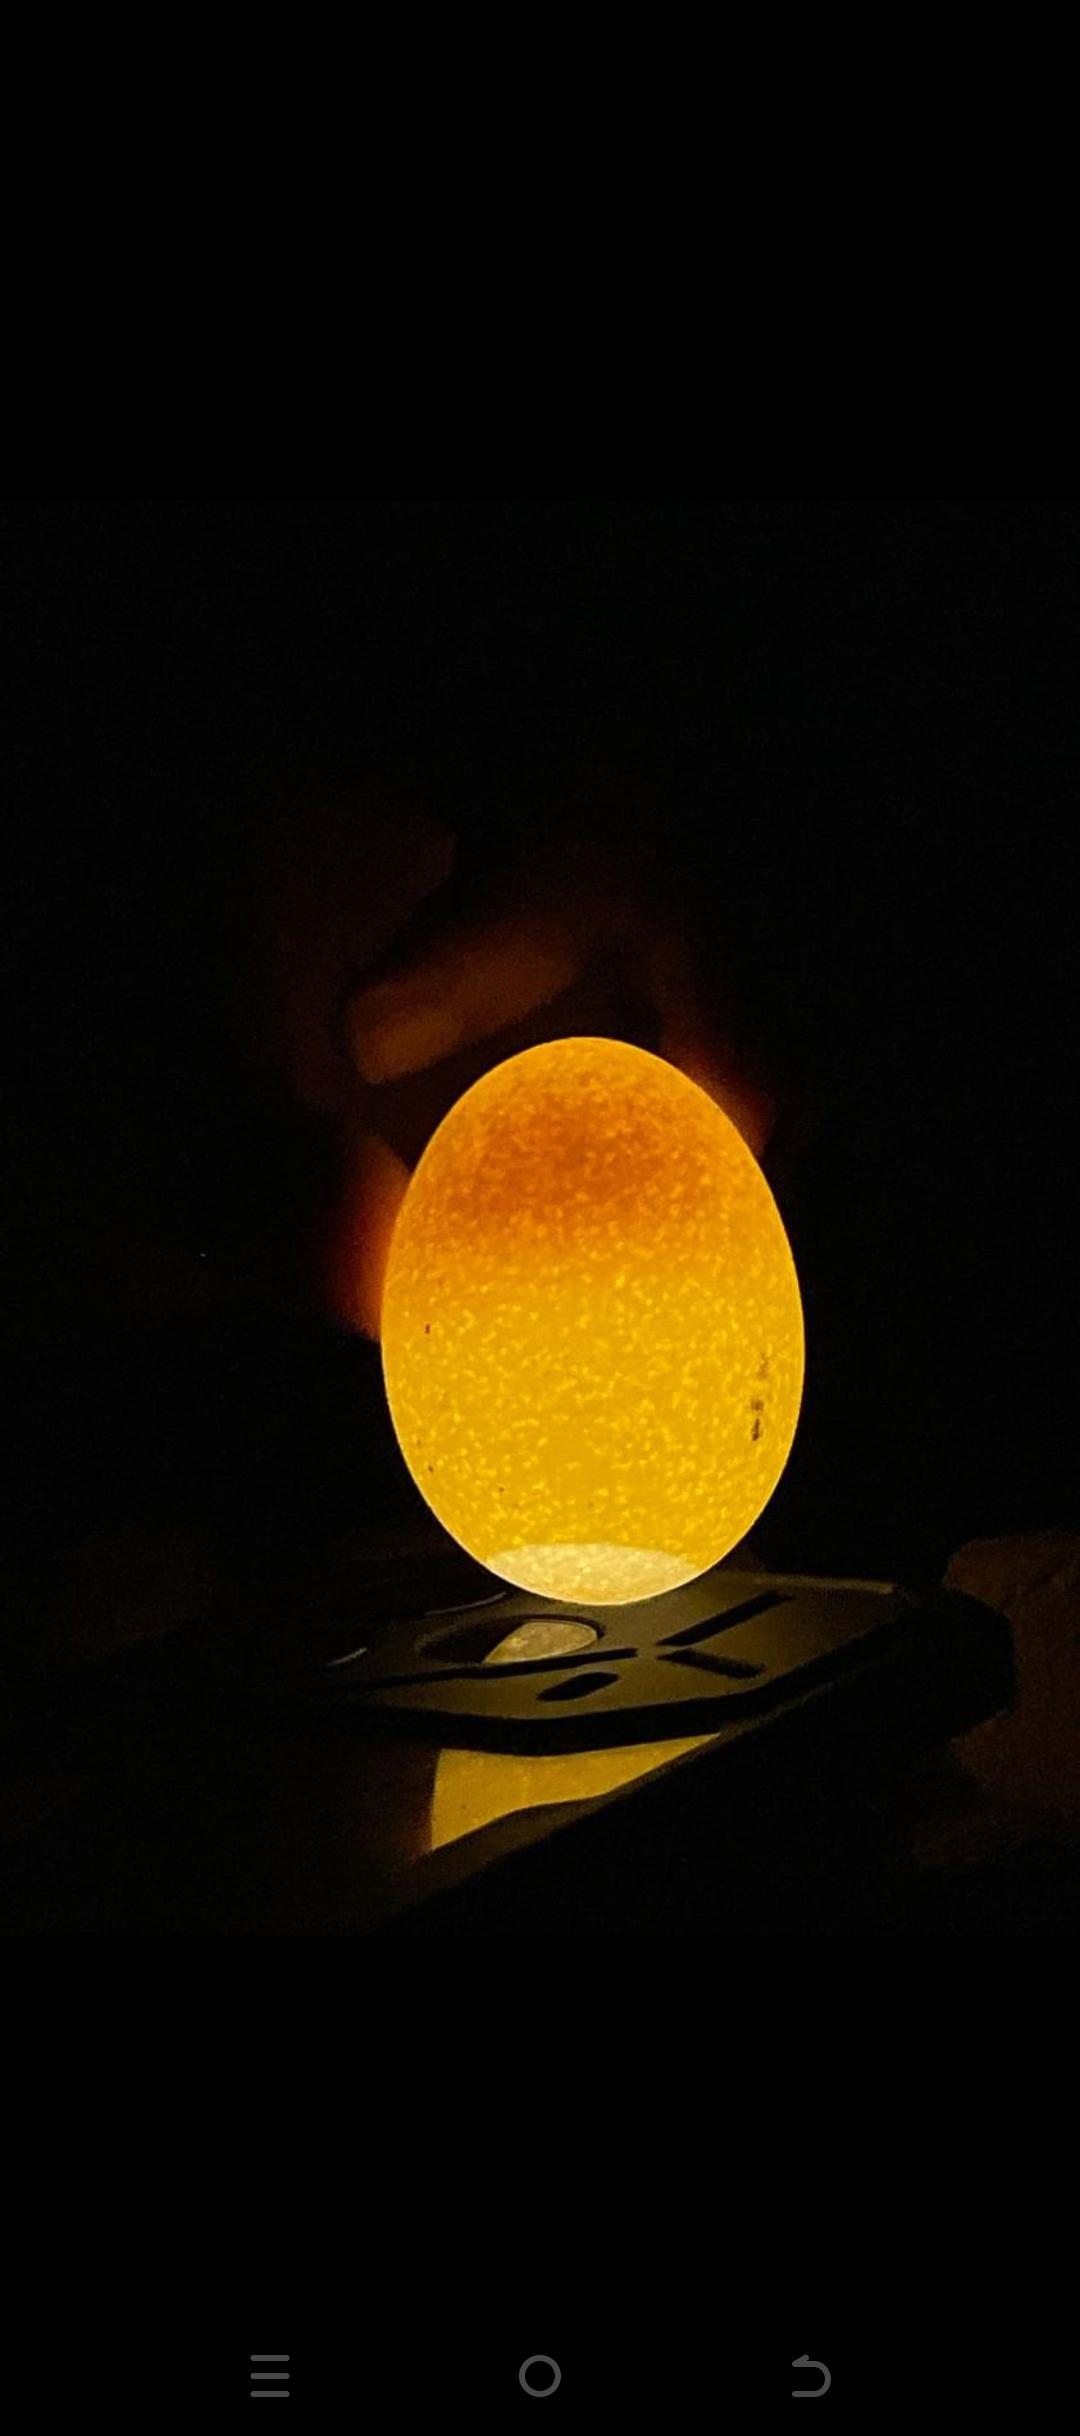A - Good: (381, 1013, 820, 1661)
